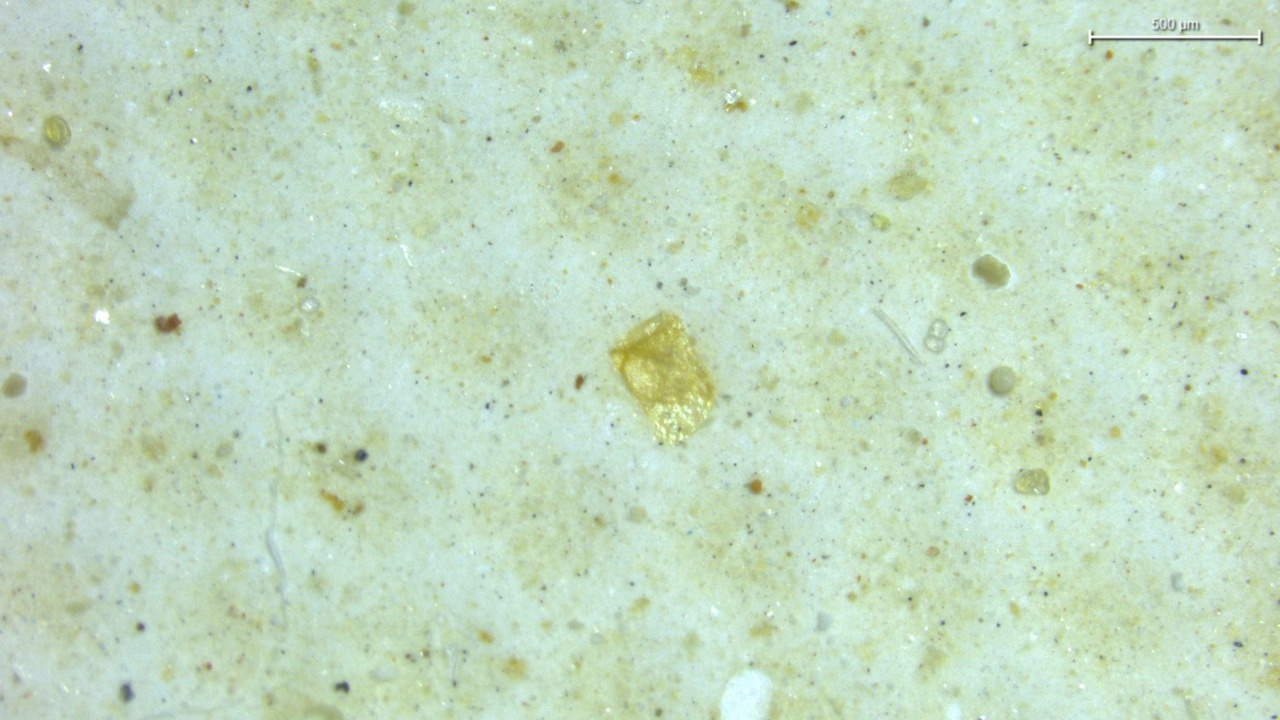microplastic_fragment: (611, 312, 715, 444), (989, 366, 1017, 395)
